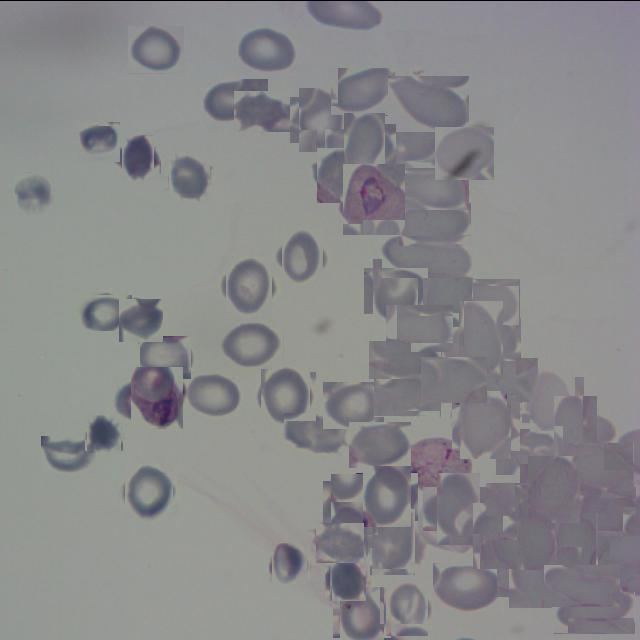leukocyte: (388, 75, 469, 131), (450, 308, 512, 371), (382, 235, 474, 277), (545, 404, 606, 465), (559, 442, 634, 491), (456, 394, 516, 454), (524, 459, 584, 519), (433, 562, 504, 611), (418, 264, 477, 322), (469, 506, 528, 564), (554, 591, 635, 633), (430, 478, 488, 536), (386, 304, 454, 352), (363, 513, 420, 570), (466, 357, 538, 402), (544, 564, 620, 606), (331, 66, 396, 115), (399, 202, 472, 245), (368, 262, 424, 318), (435, 126, 494, 179), (394, 167, 468, 209), (575, 486, 637, 536), (257, 368, 313, 423), (220, 321, 284, 369), (421, 356, 487, 402), (503, 547, 558, 602), (511, 505, 566, 560), (294, 92, 350, 146), (360, 468, 414, 524), (496, 428, 562, 473), (327, 476, 381, 530), (526, 372, 580, 426), (550, 518, 604, 572), (235, 26, 298, 72), (323, 381, 384, 428), (222, 259, 275, 313), (122, 465, 176, 518), (203, 76, 268, 120), (349, 421, 411, 467), (369, 340, 442, 379), (374, 374, 441, 416), (128, 25, 185, 73), (338, 118, 390, 170), (284, 412, 348, 454), (464, 278, 520, 325), (337, 589, 388, 640), (278, 231, 328, 281), (314, 150, 364, 200), (388, 118, 443, 160), (382, 584, 430, 632), (234, 90, 290, 131), (140, 334, 192, 378), (486, 482, 550, 516), (166, 153, 212, 199), (192, 374, 241, 416), (41, 435, 96, 472), (119, 298, 163, 342), (316, 522, 364, 562), (81, 294, 132, 330), (12, 172, 54, 214), (78, 120, 119, 162), (327, 557, 368, 598), (118, 137, 157, 177), (270, 542, 308, 582), (86, 414, 122, 451)
schizont: (341, 165, 408, 232), (128, 368, 186, 425)
